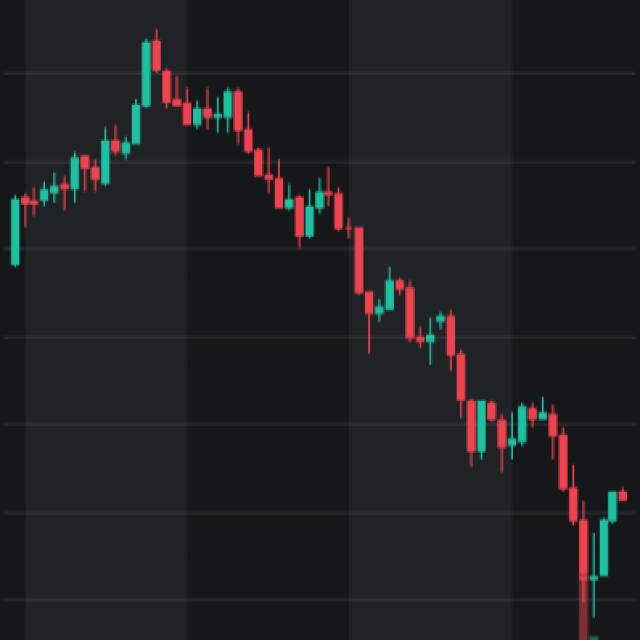Support-breakout: (14, 25, 596, 620)
